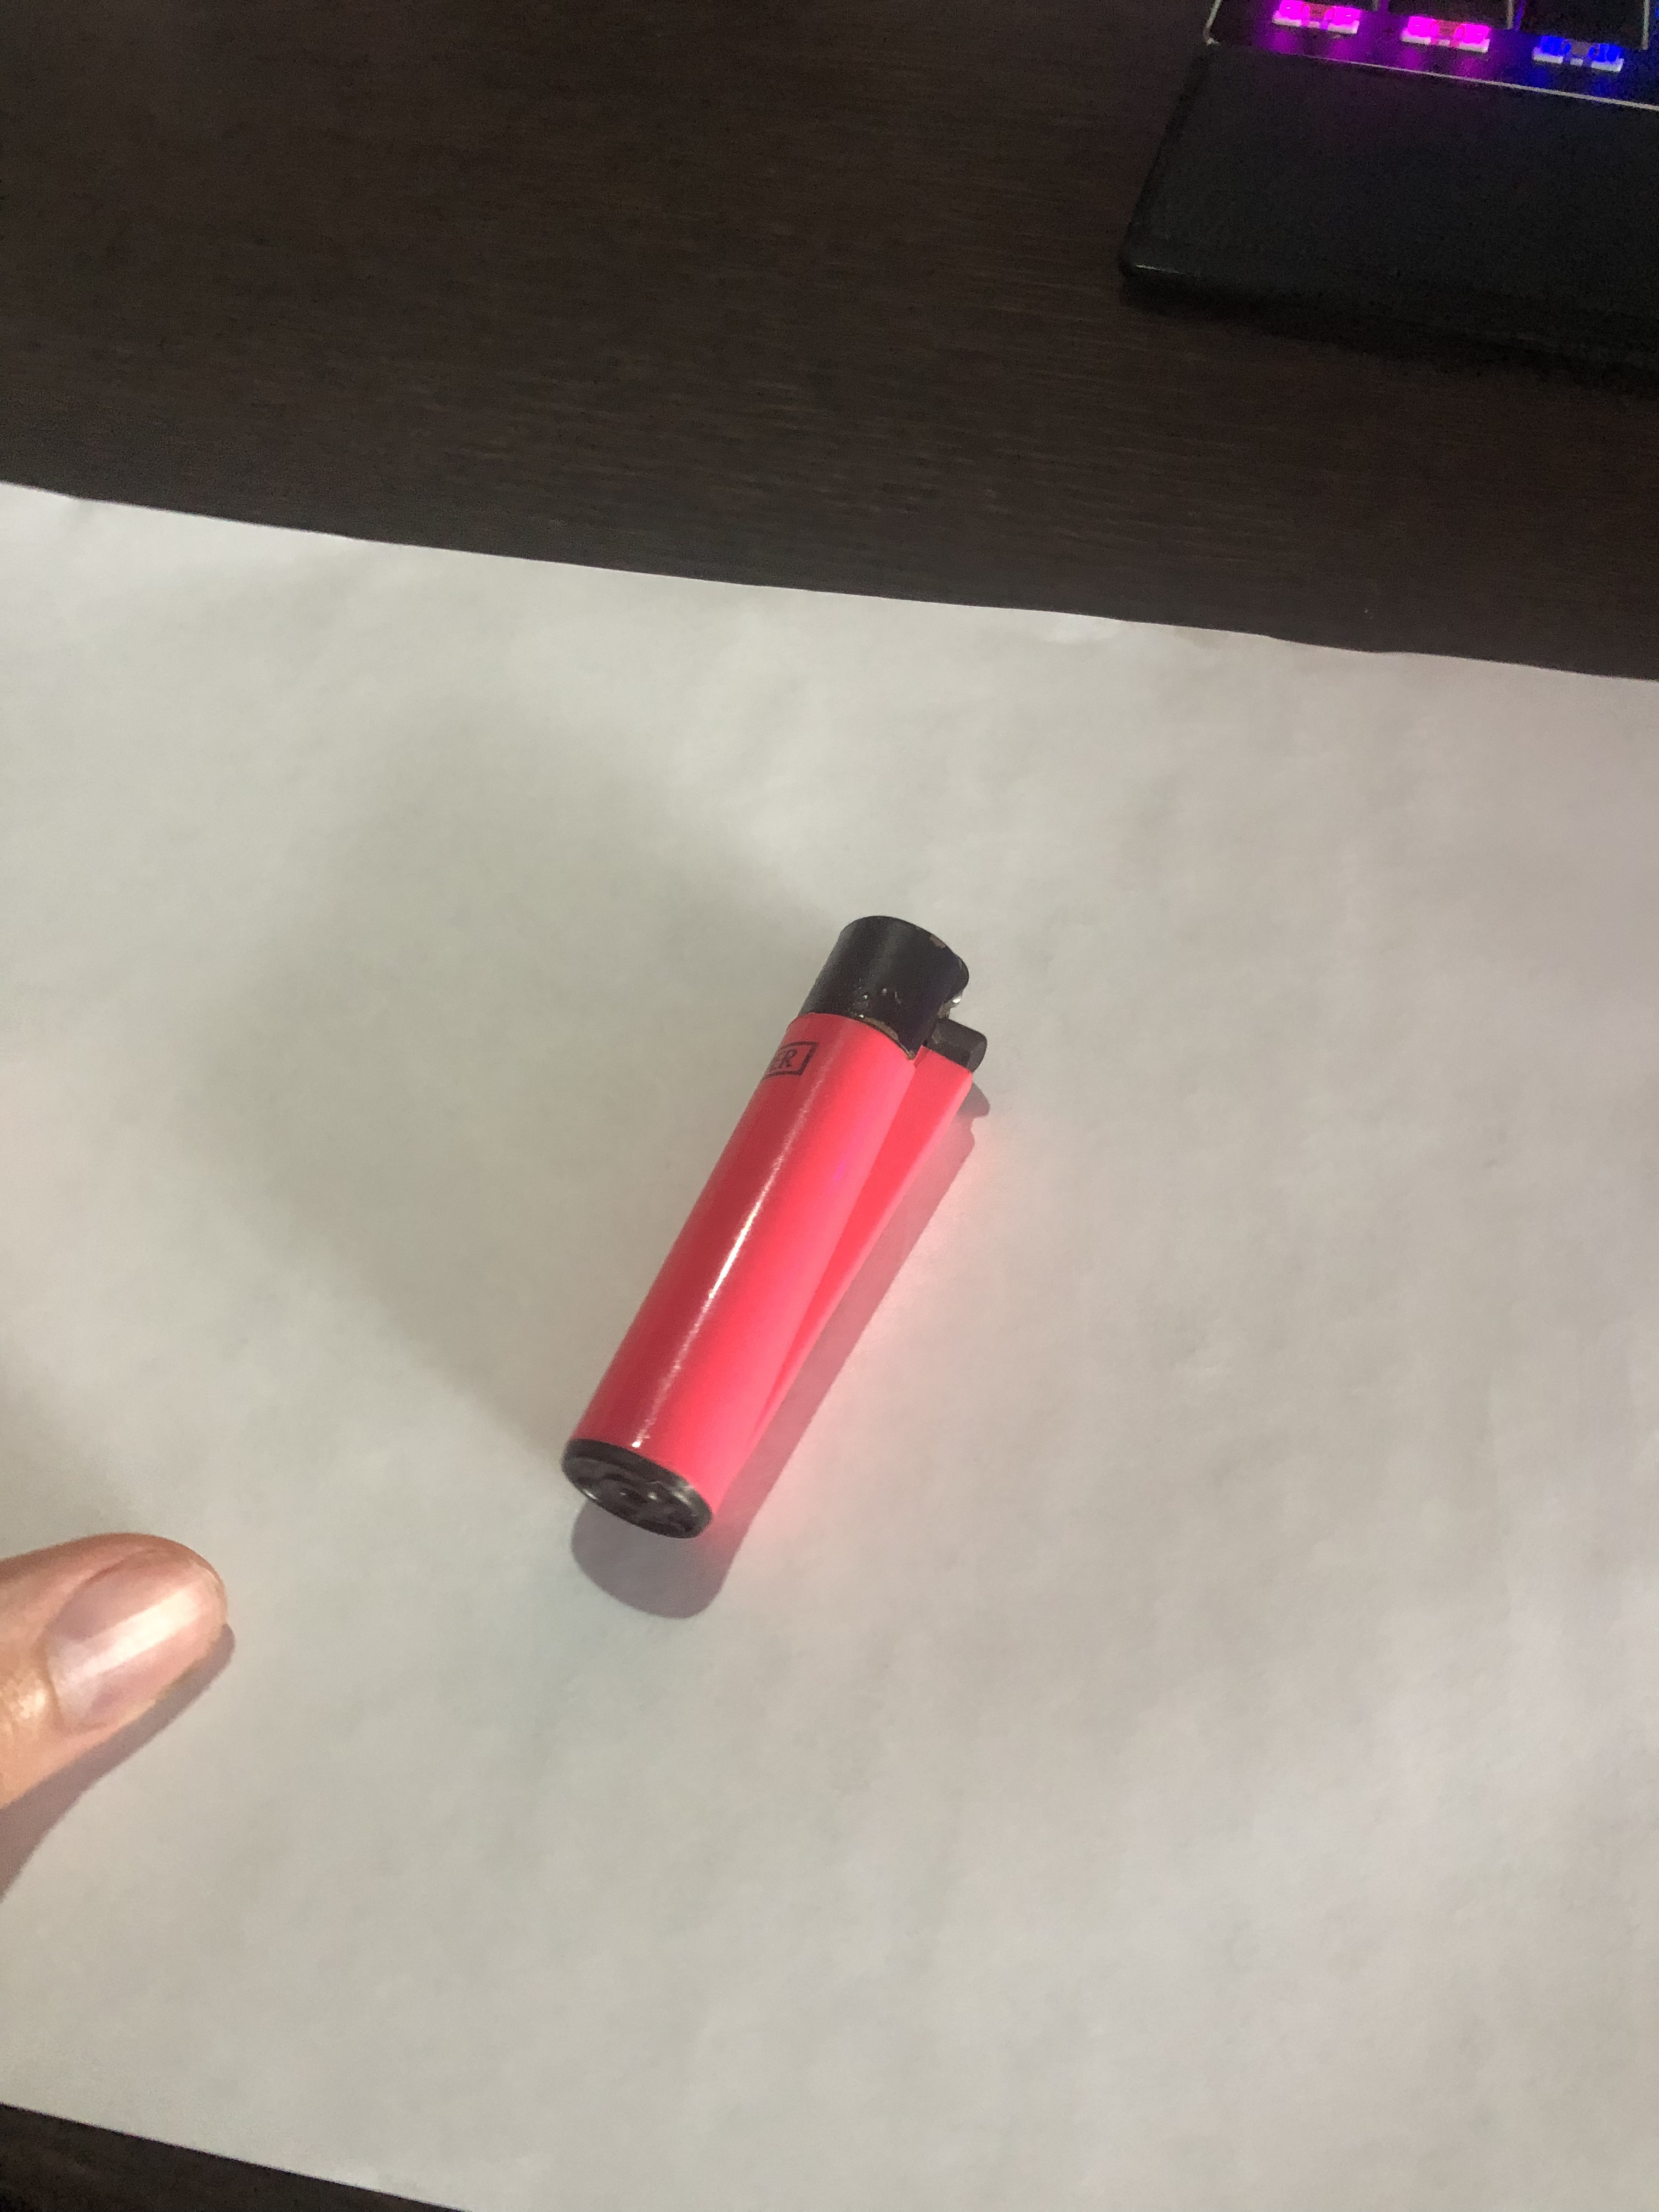Mechero: (497, 892, 1033, 1601)
